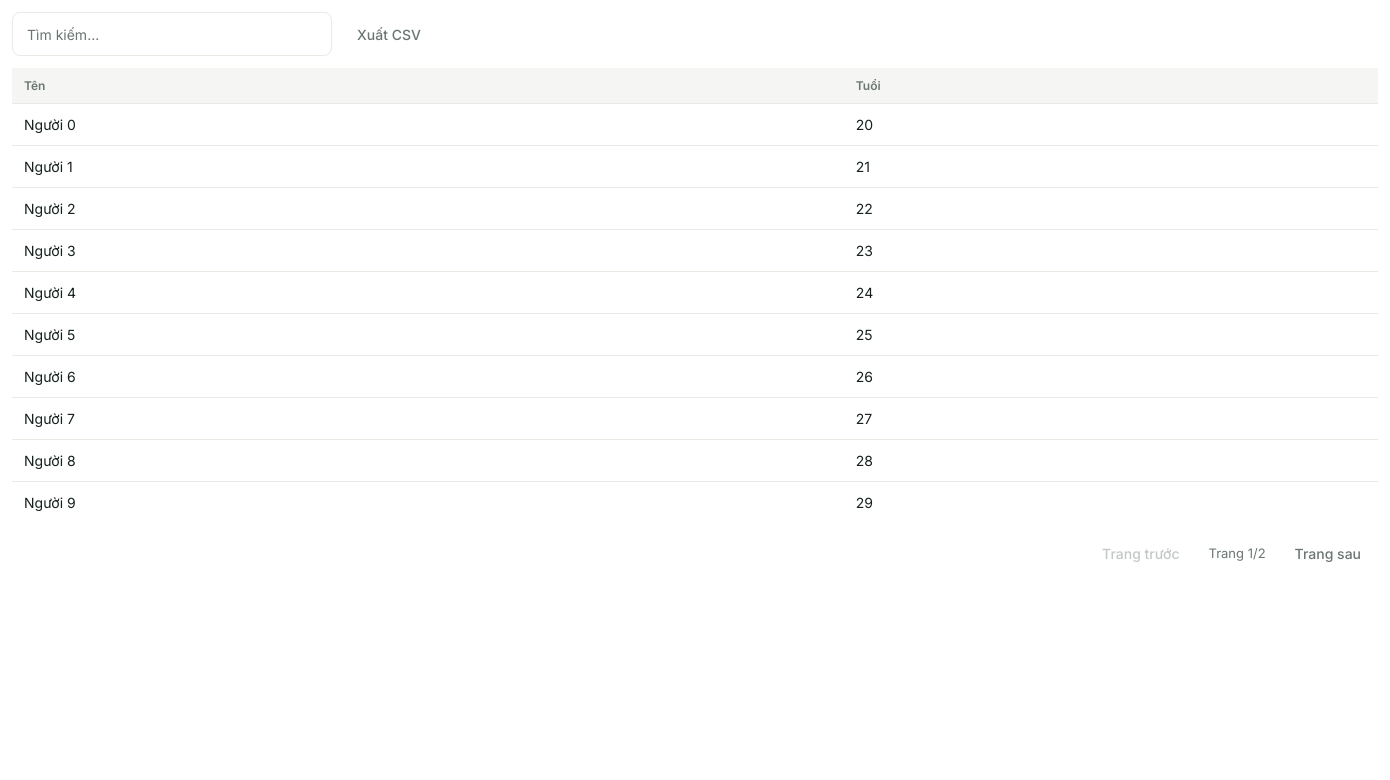
Test case: search filters rows across searchKeys
The width and height of the screenshot is (1390, 780).
Type "Người 11" into the field. click: [172, 34]
box: [12,12,332,56]
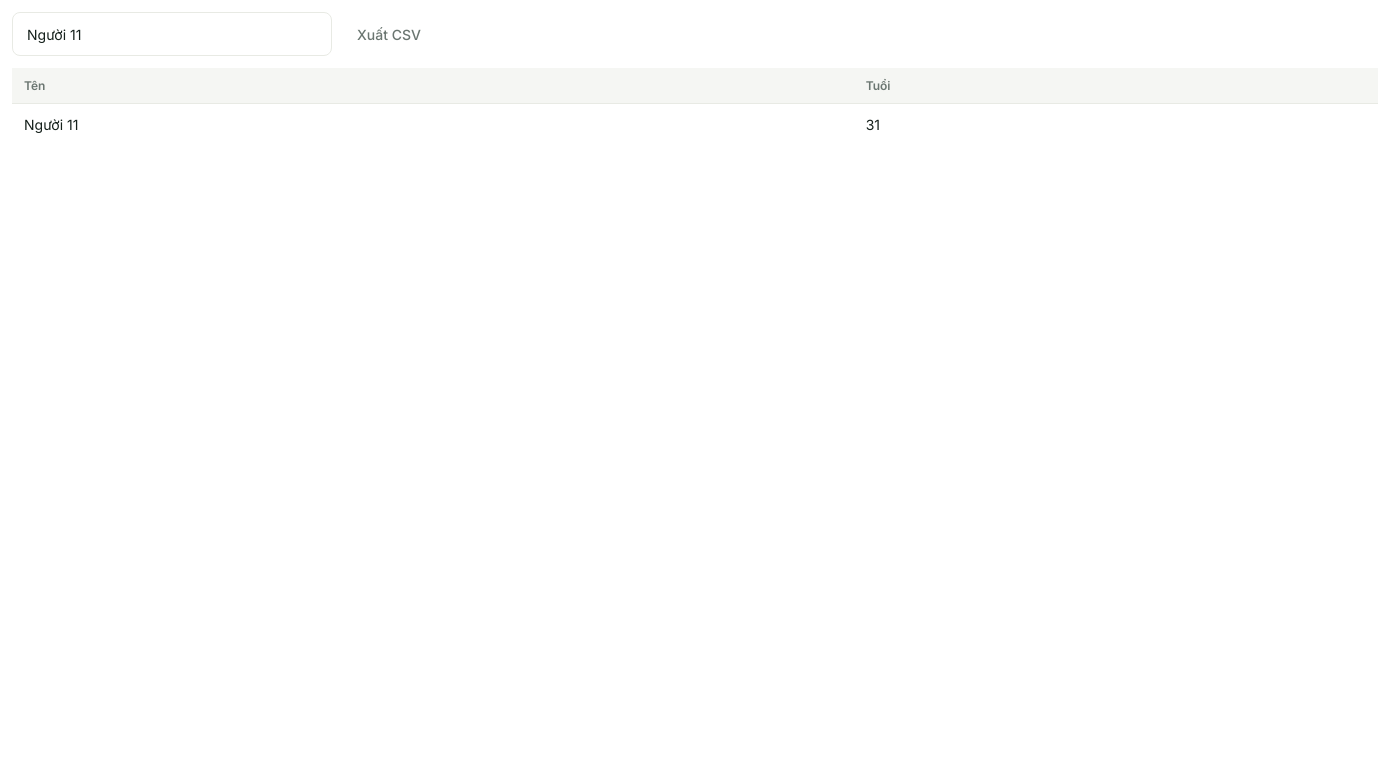
Now the text "Người 11" is shown, box [12,104,854,145]
Now the text "Người 0" is gone
